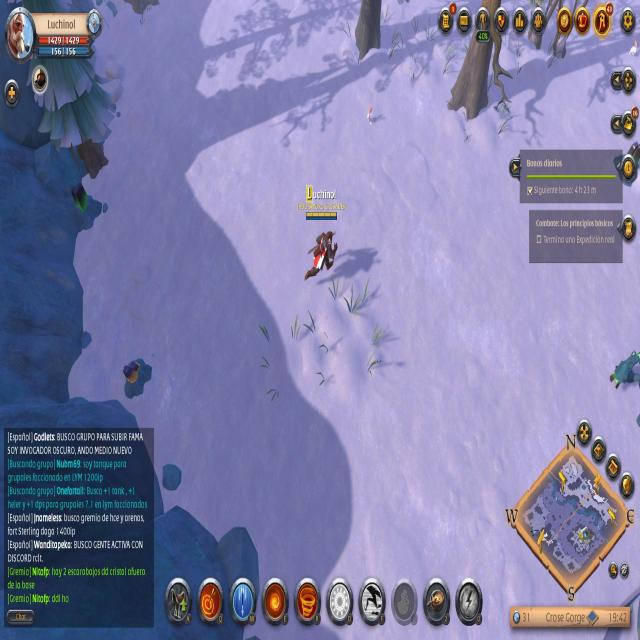piedra_cobre: (121, 354, 160, 404)
